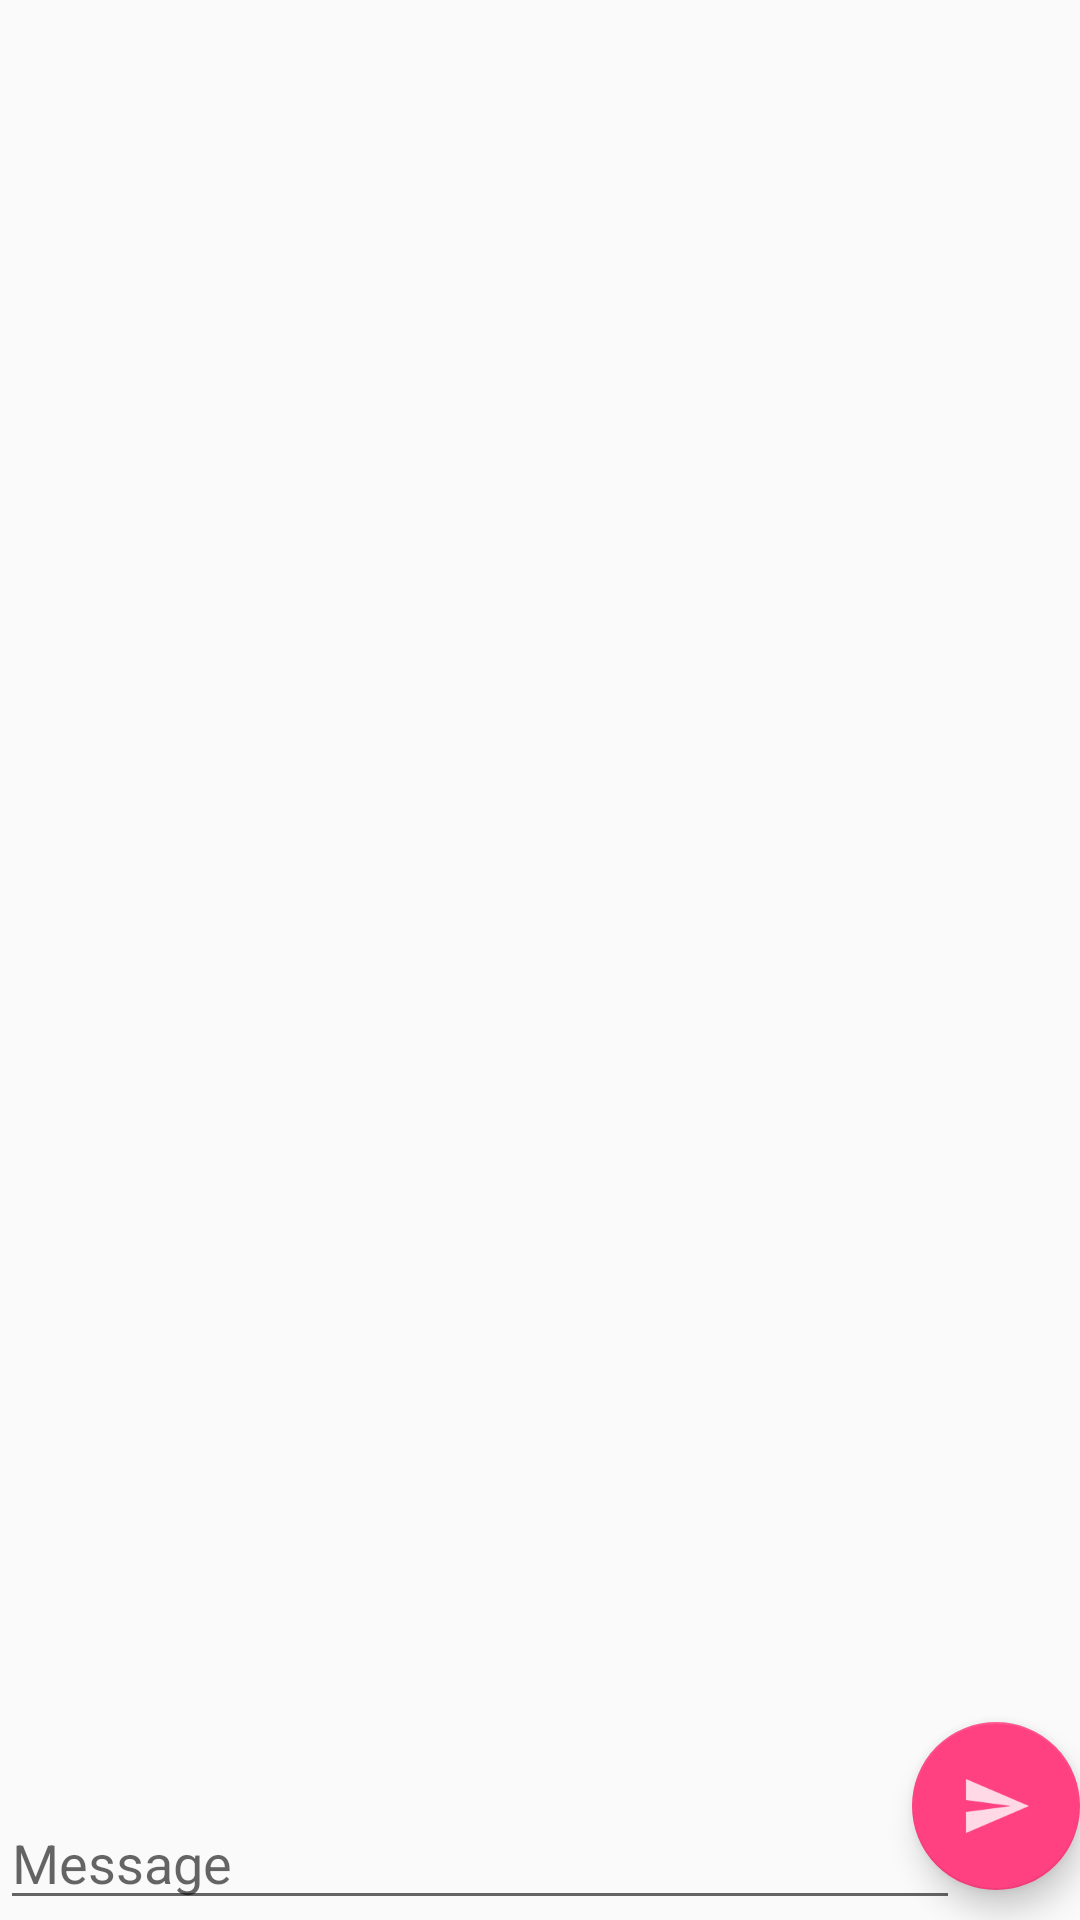

Named icons in this screenshot (1080px x 1920px) and their centers, (x,y):
send: (996,1806)
